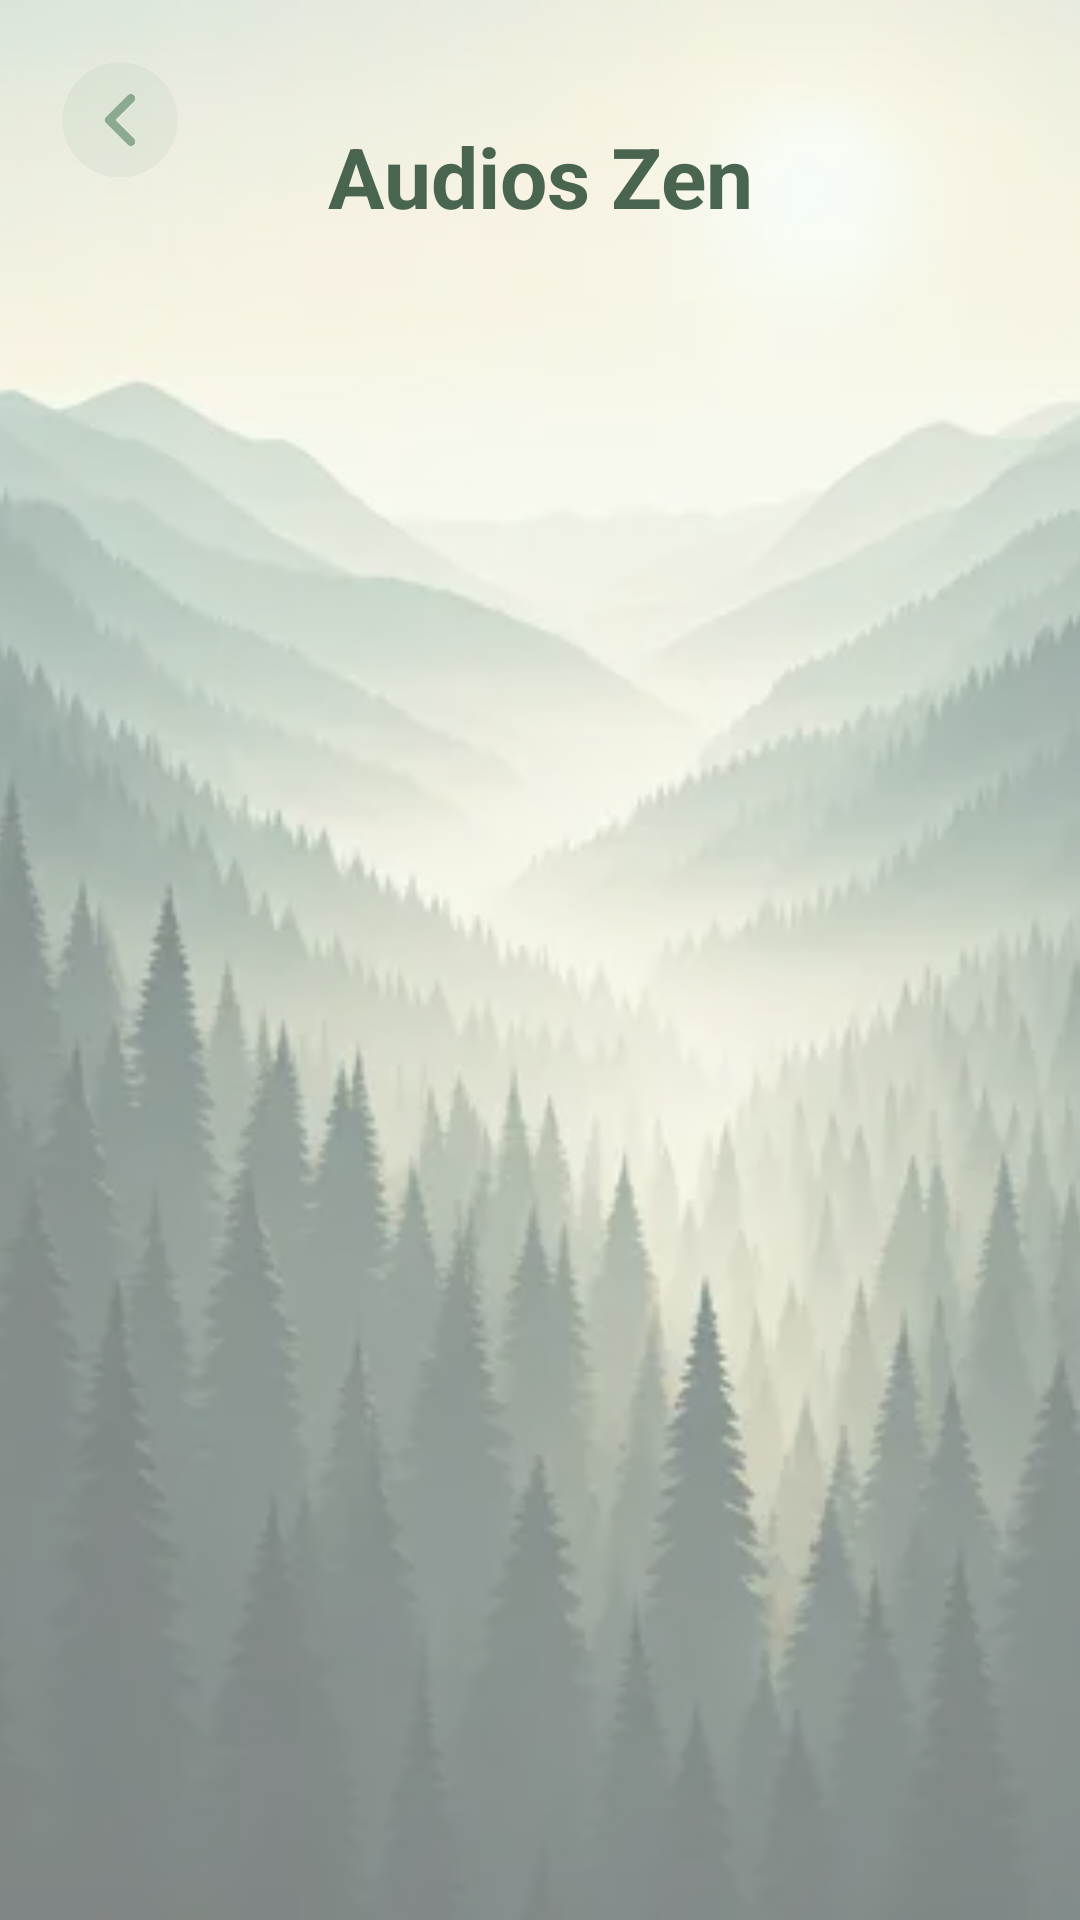

Icon click points for this 1080 × 1920 phone screenshot, format (x,y):
Volver: (120,120)
